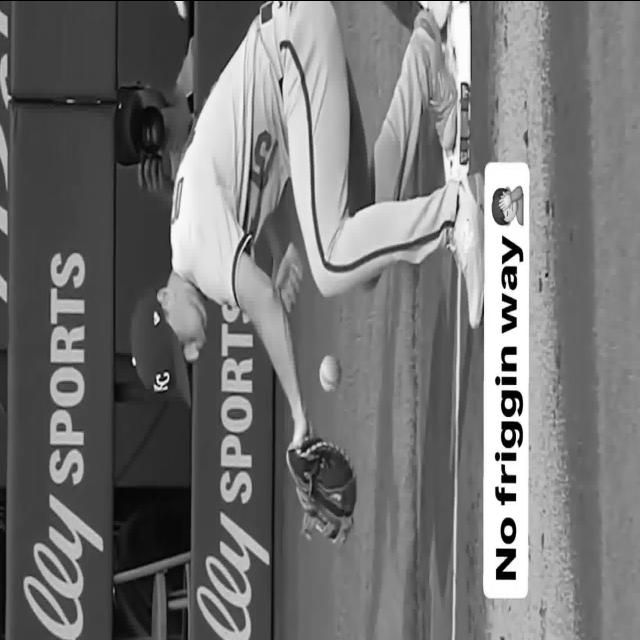base: (442, 0, 471, 180)
baseball: (319, 353, 340, 391)
baseball_glove: (286, 438, 356, 547)
shoe: (414, 9, 458, 149), (448, 171, 484, 327)
